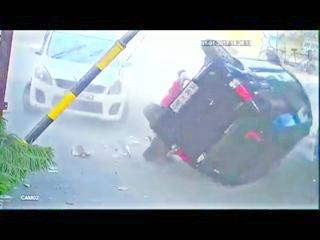Car: (144, 40, 312, 189), (24, 32, 130, 120)
Major Accident: (22, 30, 315, 192)
